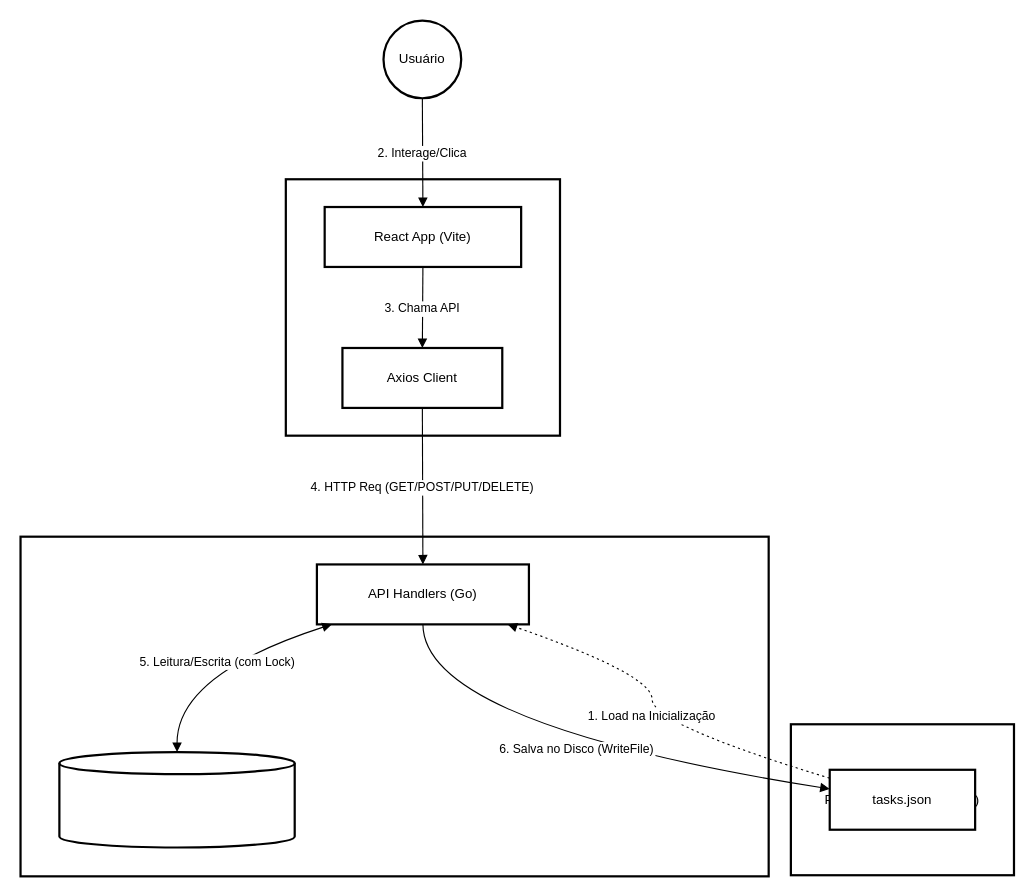
Some shapes in this 1033 by 896 pixel diagram are drawn without their labels. Each missing label, with the box of its shape:
Backend (Container Go): (19, 535, 769, 877)
Frontend (Navegador): (284, 178, 561, 436)
Memória RAM (Map/Mutex): (58, 750, 295, 848)
